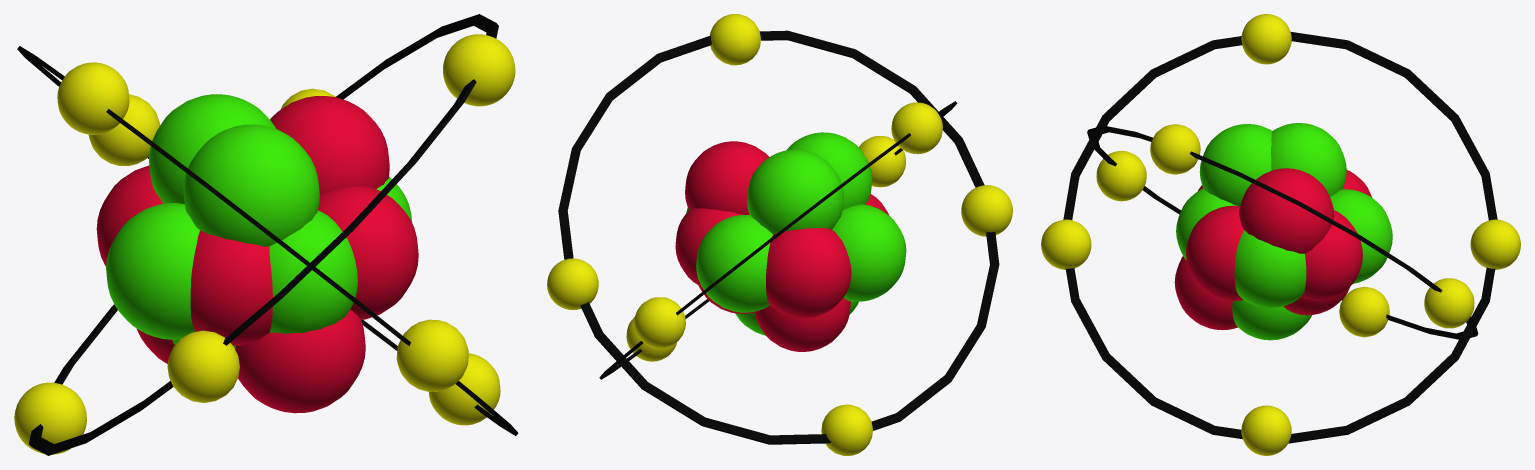
The model's file is ammo_atom_blast_austin.fbx.
The picture shows the model from 3 angles, left to right: view 1: azimuth 30°, elevation 25°; view 2: azimuth 150°, elevation 25°; view 3: azimuth 270°, elevation 25°; orthographic projection. The views are drawn at different scales.
Visible parts, largest first — view 1: pSphere22; view 2: pSphere22; view 3: pSphere22.
Part boxes in pixels (left/top/right/bottom): pSphere22: left=14, top=14, right=518, bottom=455; pSphere22: left=547, top=14, right=1012, bottom=455; pSphere22: left=1041, top=14, right=1520, bottom=455.
Size of the model in its own units: 7.92 by 7.19 by 10.05.
